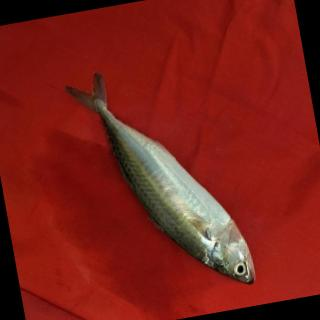Ikan: (50, 41, 268, 320)
